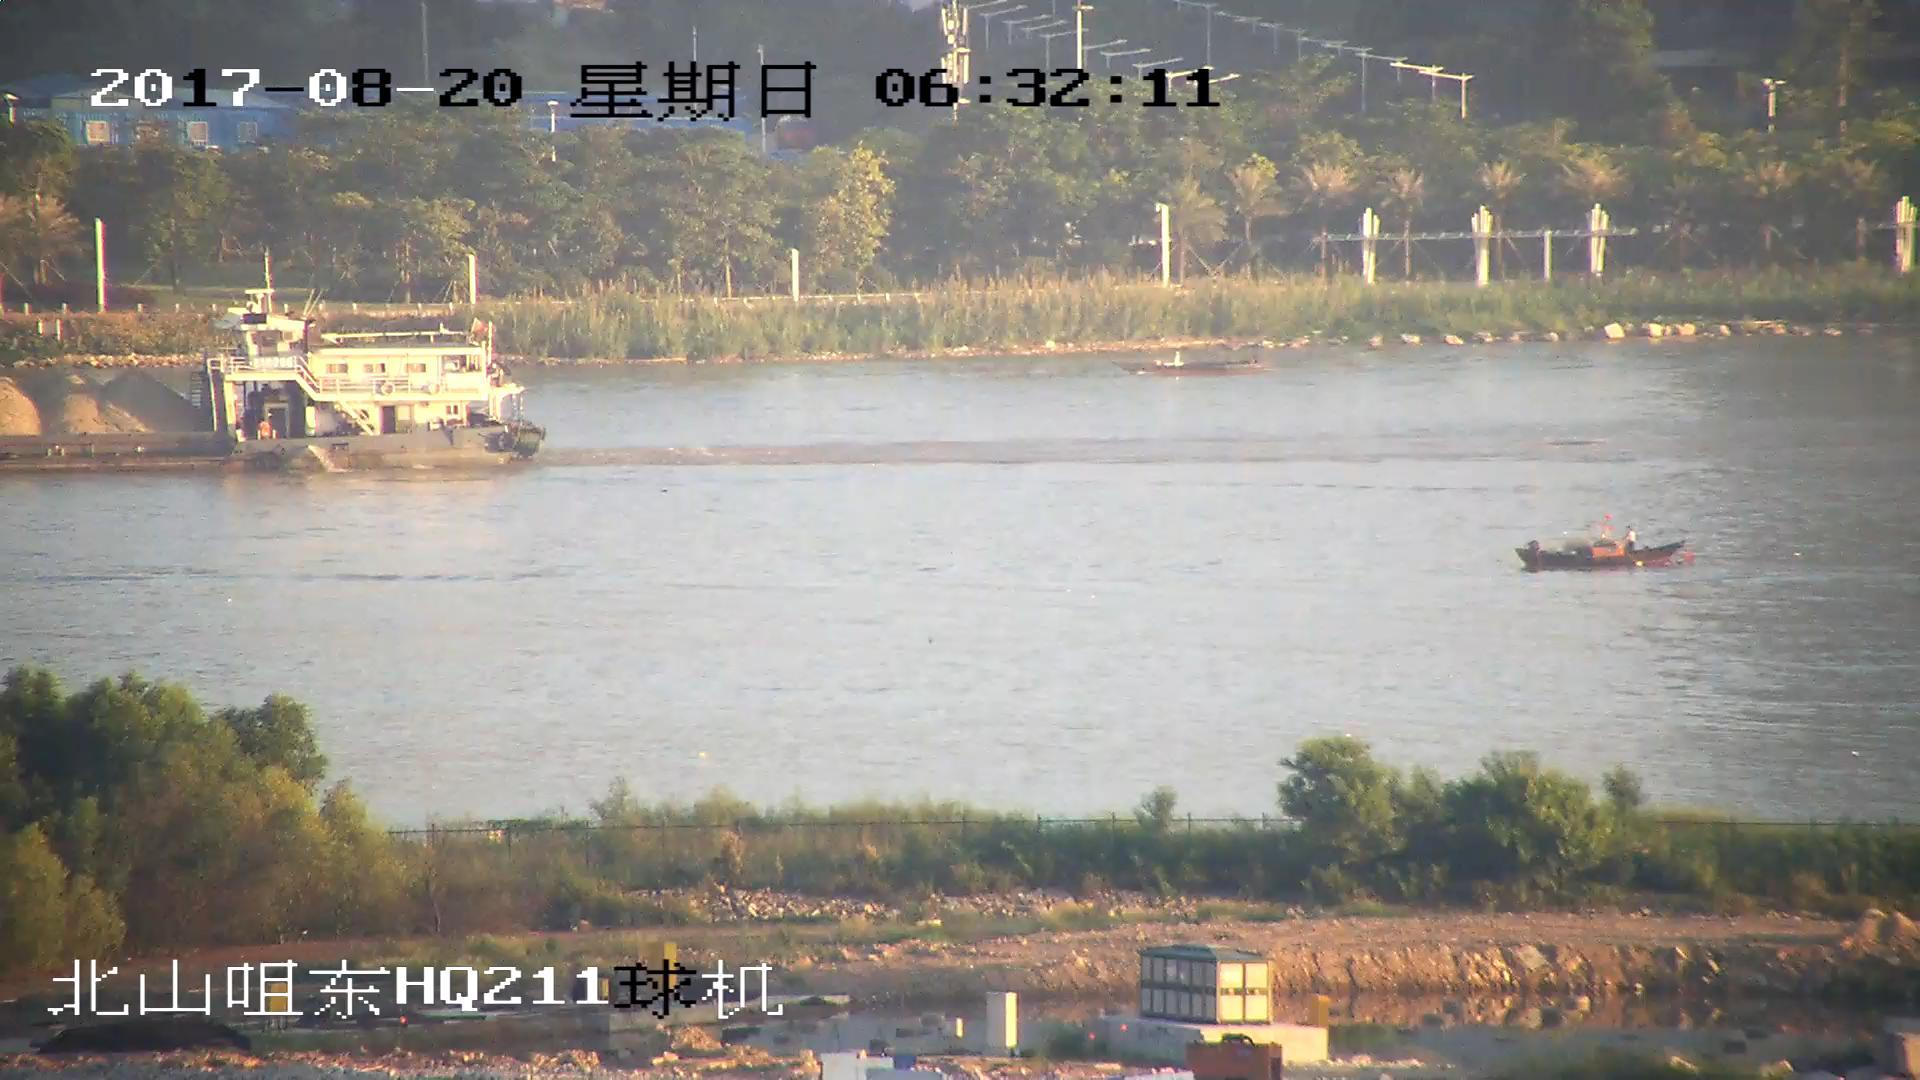Ship: (3, 268, 545, 471), (1516, 516, 1706, 578)
